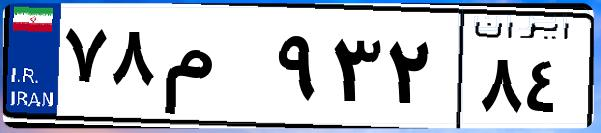2: (385, 28, 445, 110)
3: (330, 28, 385, 110)
4: (525, 38, 570, 115)
7: (57, 26, 110, 100)
8: (475, 38, 525, 113), (110, 28, 158, 98)
9: (270, 28, 330, 110)
م: (158, 20, 270, 120)
